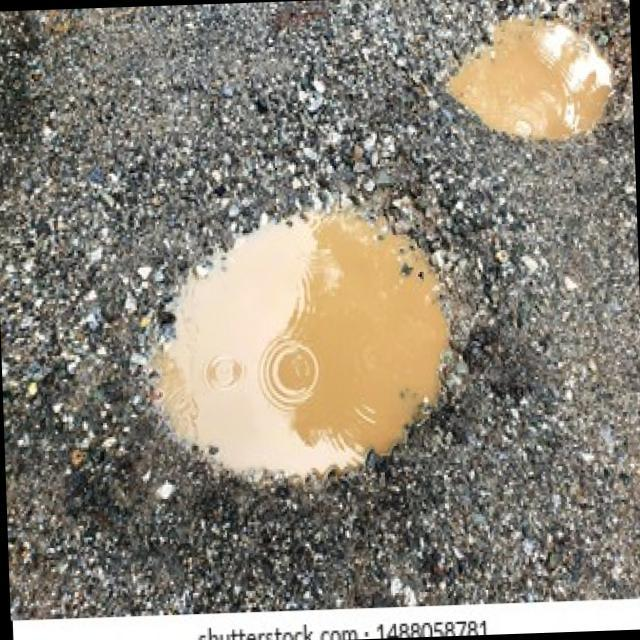Pothole: (114, 187, 476, 493), (431, 1, 634, 152)
